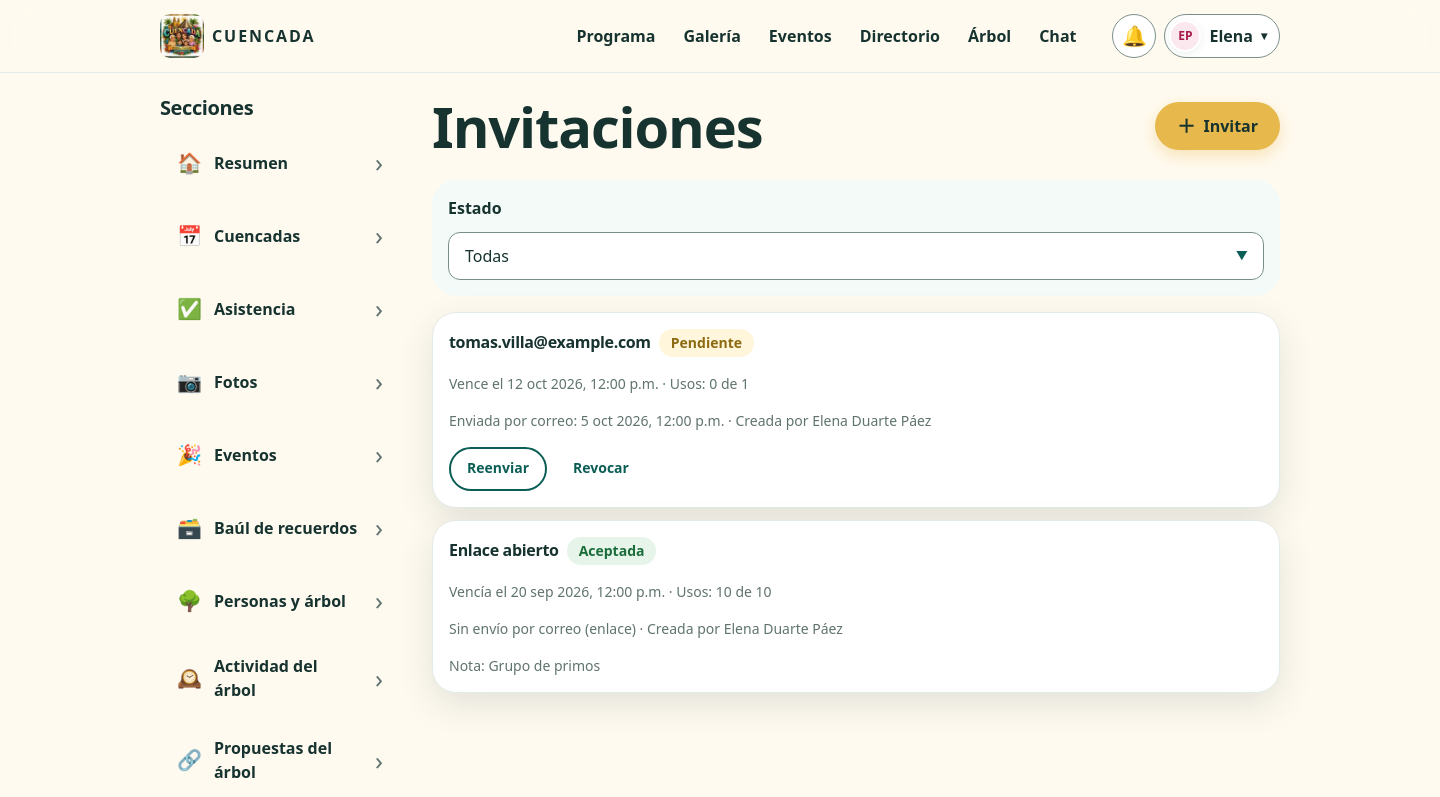
Test: Invite form: Persona en el árbol › lists living people without an account with year and branch, disables a pending one, and sends personId
Click the button "＋ Invitar": (1218, 126) [1155,102,1280,150]
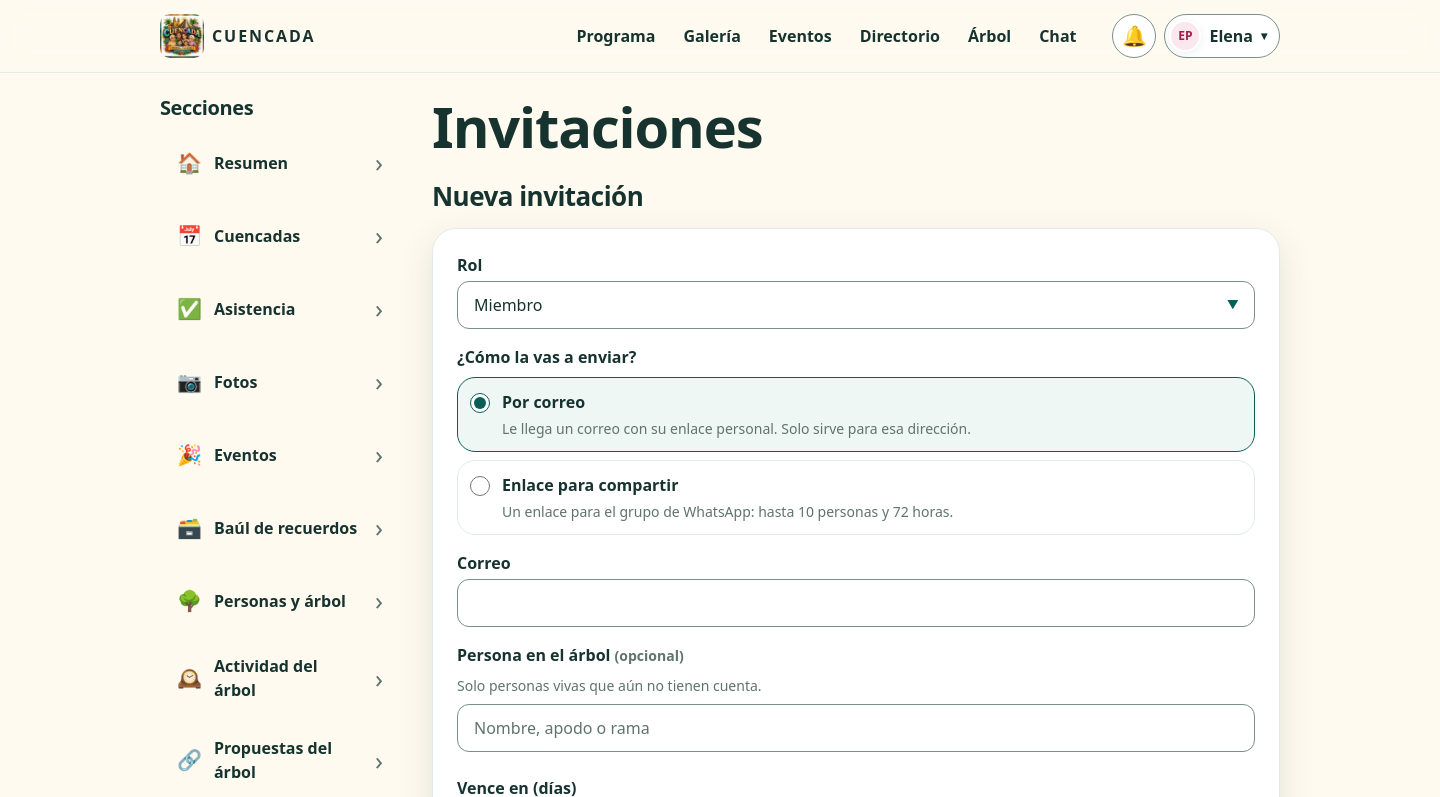
In the search field labelled "Persona en el árbol (opcional)": (856, 728) [457,704,1255,752], type "ana"
(page scrolled)
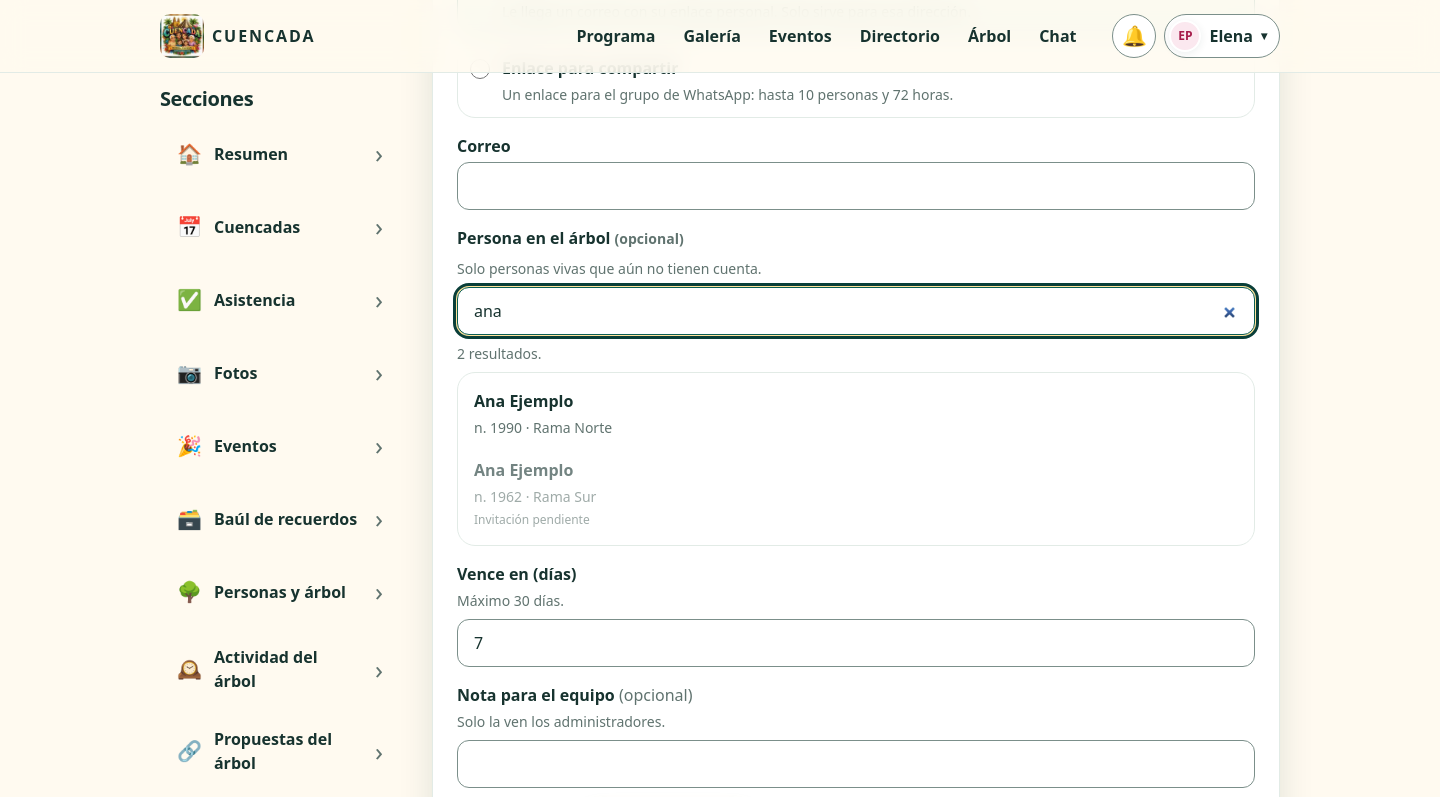
Expected: the button named "Elegir a Ana Ejemplo, n. 1962 · Rama Sur (Invitación pendiente)" is disabled, [466,450,1246,537]
Click the button with aria-label "Elegir a Ana Ejemplo, n. 1990 · Rama Norte": (524, 401) [466,381,1246,446]
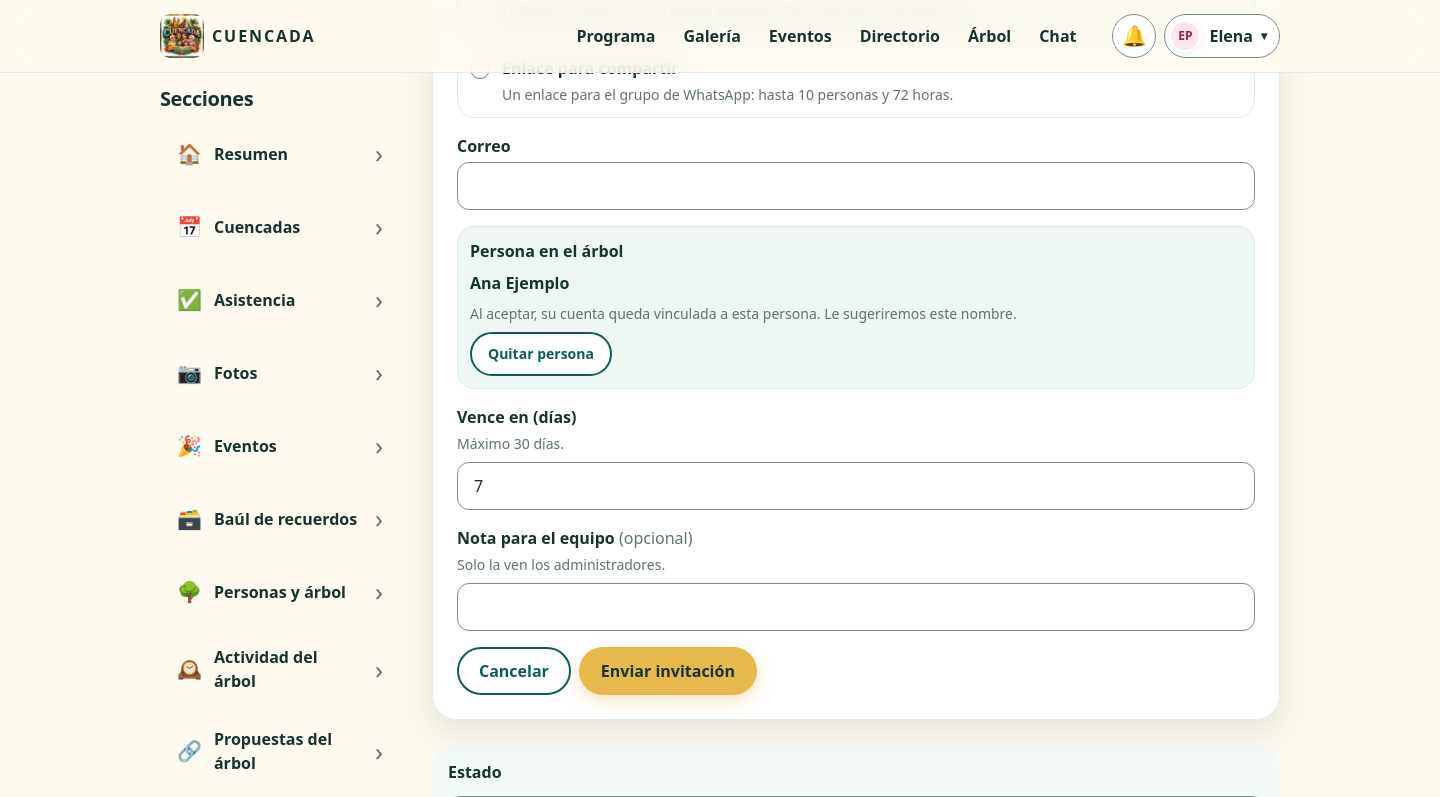
Expected: the text "Ana Ejemplo" is shown, [470,271,569,295]
Expected: the text "Le sugeriremos este nombre" is shown, [470,304,1017,323]
In the field labelled "Correo": (856, 186) [457,162,1255,210], type "ana.ejemplo@example.com"
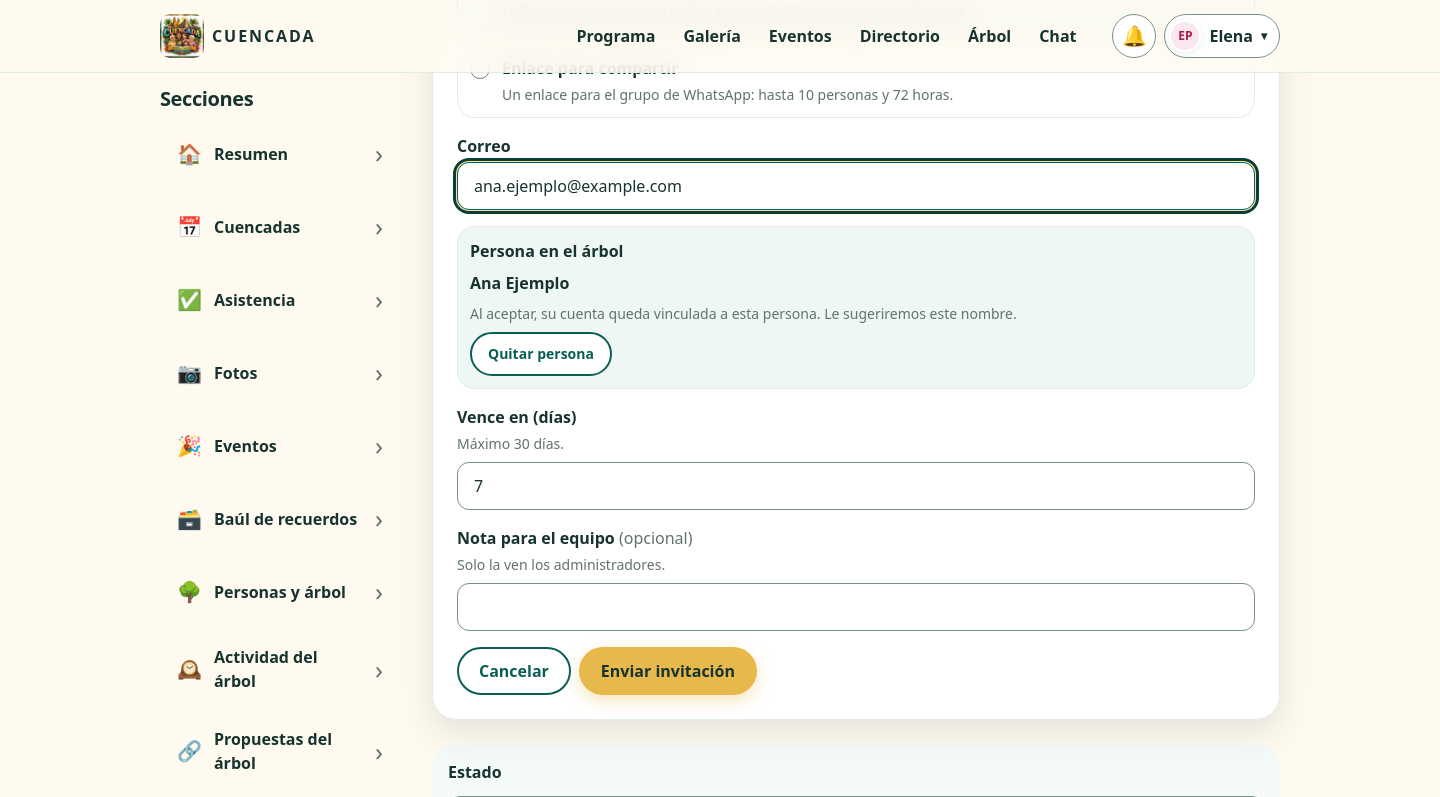
Click the button "Enviar invitación": (668, 671) [579,647,757,695]
(page scrolled)
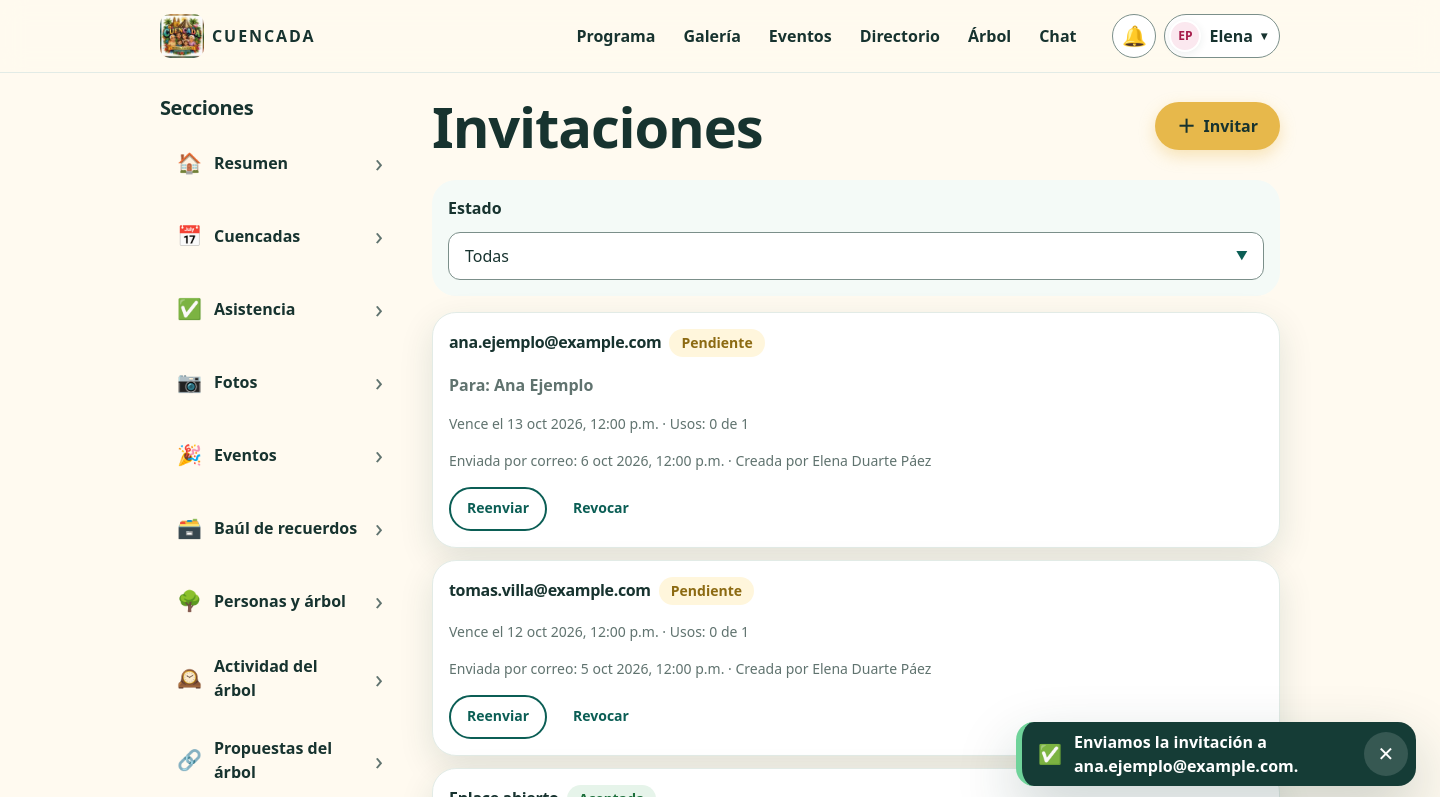
Expected: the element "ana.ejemplo@example.com" shows "Para: Ana Ejemplo", [432,312,1280,548]
